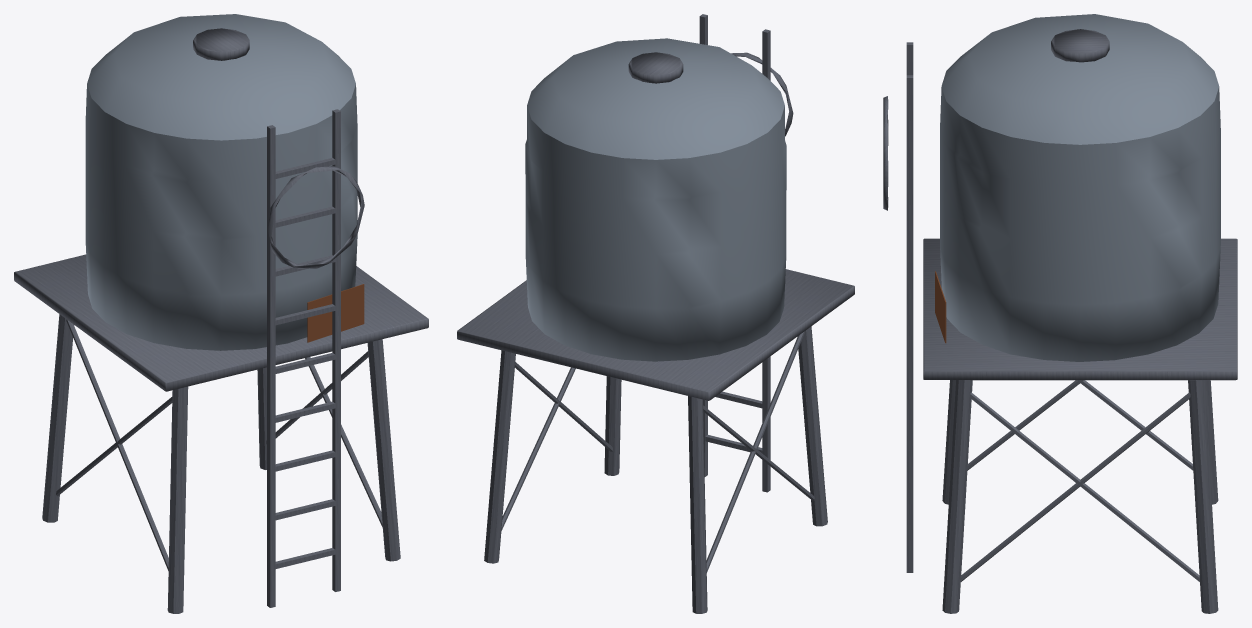
Rendered from caixa-d-agua-leve.glb.
3 renders of one model, left to right at view 1: azimuth 30°, elevation 25°; view 2: azimuth 150°, elevation 25°; view 3: azimuth 270°, elevation 25°, orthographic. The views are drawn at different scales.
Parts seen in each view (by area): view 1: tanque, plataforma, banzo, banzo.001, pe, pe.002, pe.001, mancha, diagonal, tampa, guarda, pe.003 (+2 smaller); view 2: tanque, plataforma, pe.001, pe.003, pe, pe.002, banzo, diagonal.001, tampa, diagonal.003, diagonal, diagonal.002 (+1 smaller); view 3: tanque, plataforma, pe.002, pe.003, banzo.001, diagonal.002, diagonal.003, tampa, pe.001, pe, diagonal, diagonal.001 (+2 smaller).
Part boxes in pixels (box(x1,y1,x2,y2)): tanque: box(85, 14, 357, 350); plataforma: box(14, 254, 428, 391); banzo: box(267, 125, 275, 607); banzo.001: box(332, 109, 340, 591); pe: box(167, 386, 188, 613); pe.002: box(367, 339, 400, 561); pe.001: box(42, 314, 74, 522); mancha: box(307, 284, 364, 342); diagonal: box(66, 319, 168, 570); tampa: box(193, 28, 249, 60); guarda: box(268, 166, 364, 268); pe.003: box(257, 367, 266, 469); tanque: box(525, 38, 786, 361); plataforma: box(457, 269, 854, 400); pe.001: box(688, 396, 707, 613); pe.003: box(484, 350, 515, 563); pe: box(798, 326, 827, 526); pe.002: box(604, 376, 621, 475); banzo: box(762, 29, 770, 492); diagonal.001: box(706, 331, 804, 572); tampa: box(628, 52, 683, 83); diagonal.003: box(501, 367, 575, 530); diagonal: box(703, 405, 814, 500); diagonal.002: box(515, 362, 613, 451); tanque: box(940, 14, 1220, 361); plataforma: box(923, 238, 1237, 380); pe.002: box(942, 380, 972, 613); pe.003: box(1188, 380, 1218, 613); banzo.001: box(906, 75, 913, 572); diagonal.002: box(960, 392, 1190, 581); diagonal.003: box(970, 392, 1199, 581); tampa: box(1051, 29, 1109, 62); pe.001: box(1204, 380, 1218, 504); pe: box(942, 380, 955, 504); diagonal: box(967, 380, 1083, 470); diagonal.001: box(1077, 380, 1193, 470).
Bounding box in the file's own units: 1.7 × 3.07 × 1.91.
3 materials, 1 textured.
